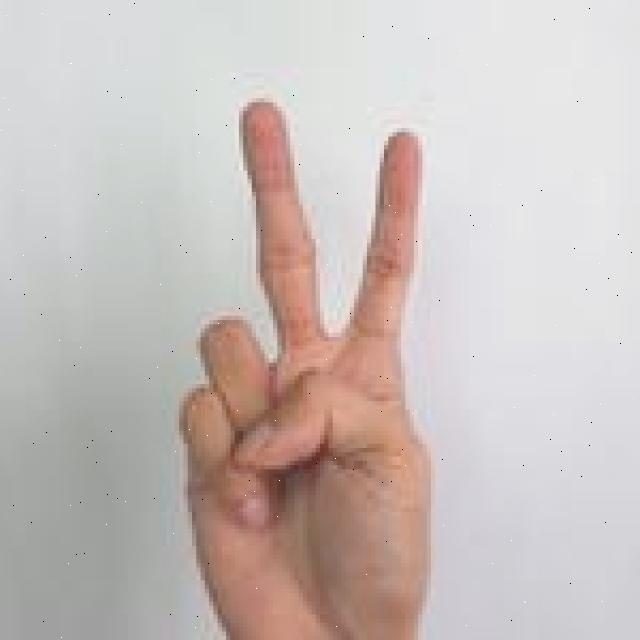V: (170, 93, 440, 640)
